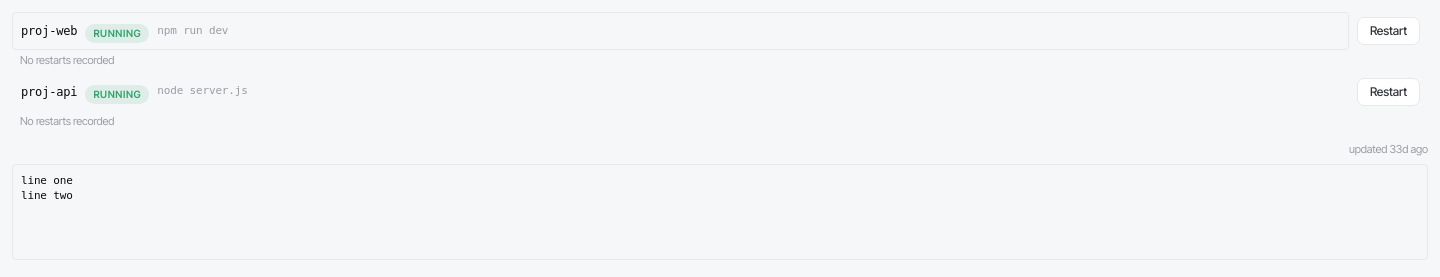
Scenario: BackgroundProcessesTab (TASK-0205) › switches the requested slug when another row is clicked
Click the button "proj-api running node server.js".
click(49, 92)  # box [12,72,1349,110]
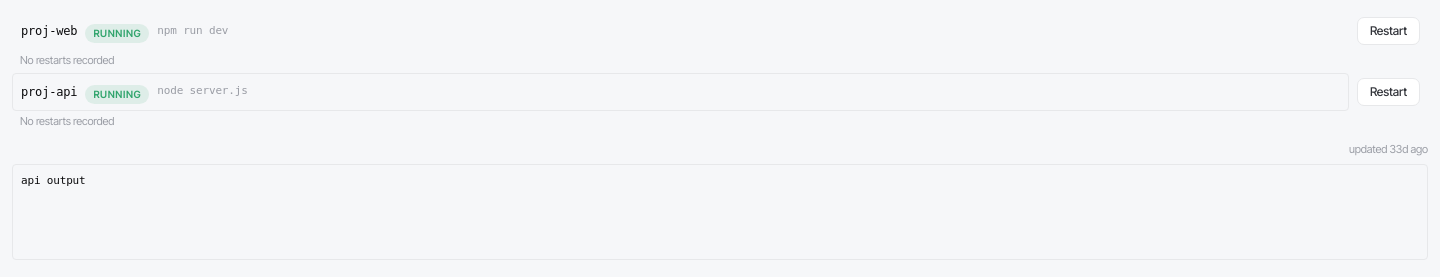
Check: the text "api output" is shown, box [21,174,86,186]
Check: the text "line one" is gone
